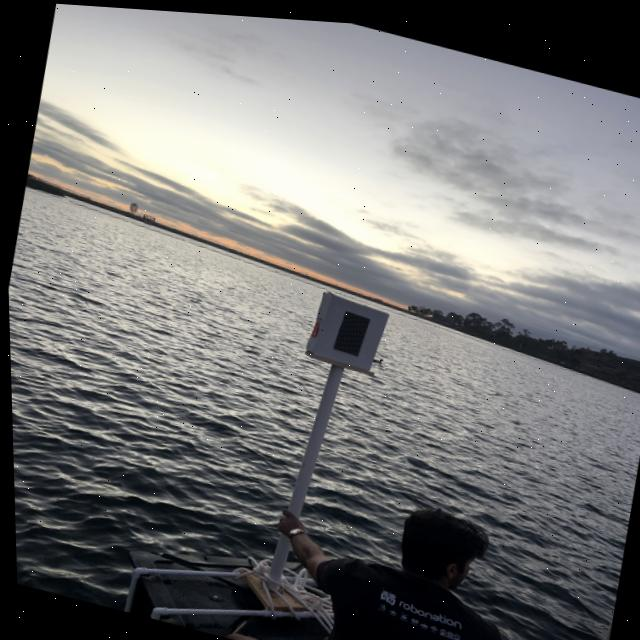led: (309, 288, 381, 374)
